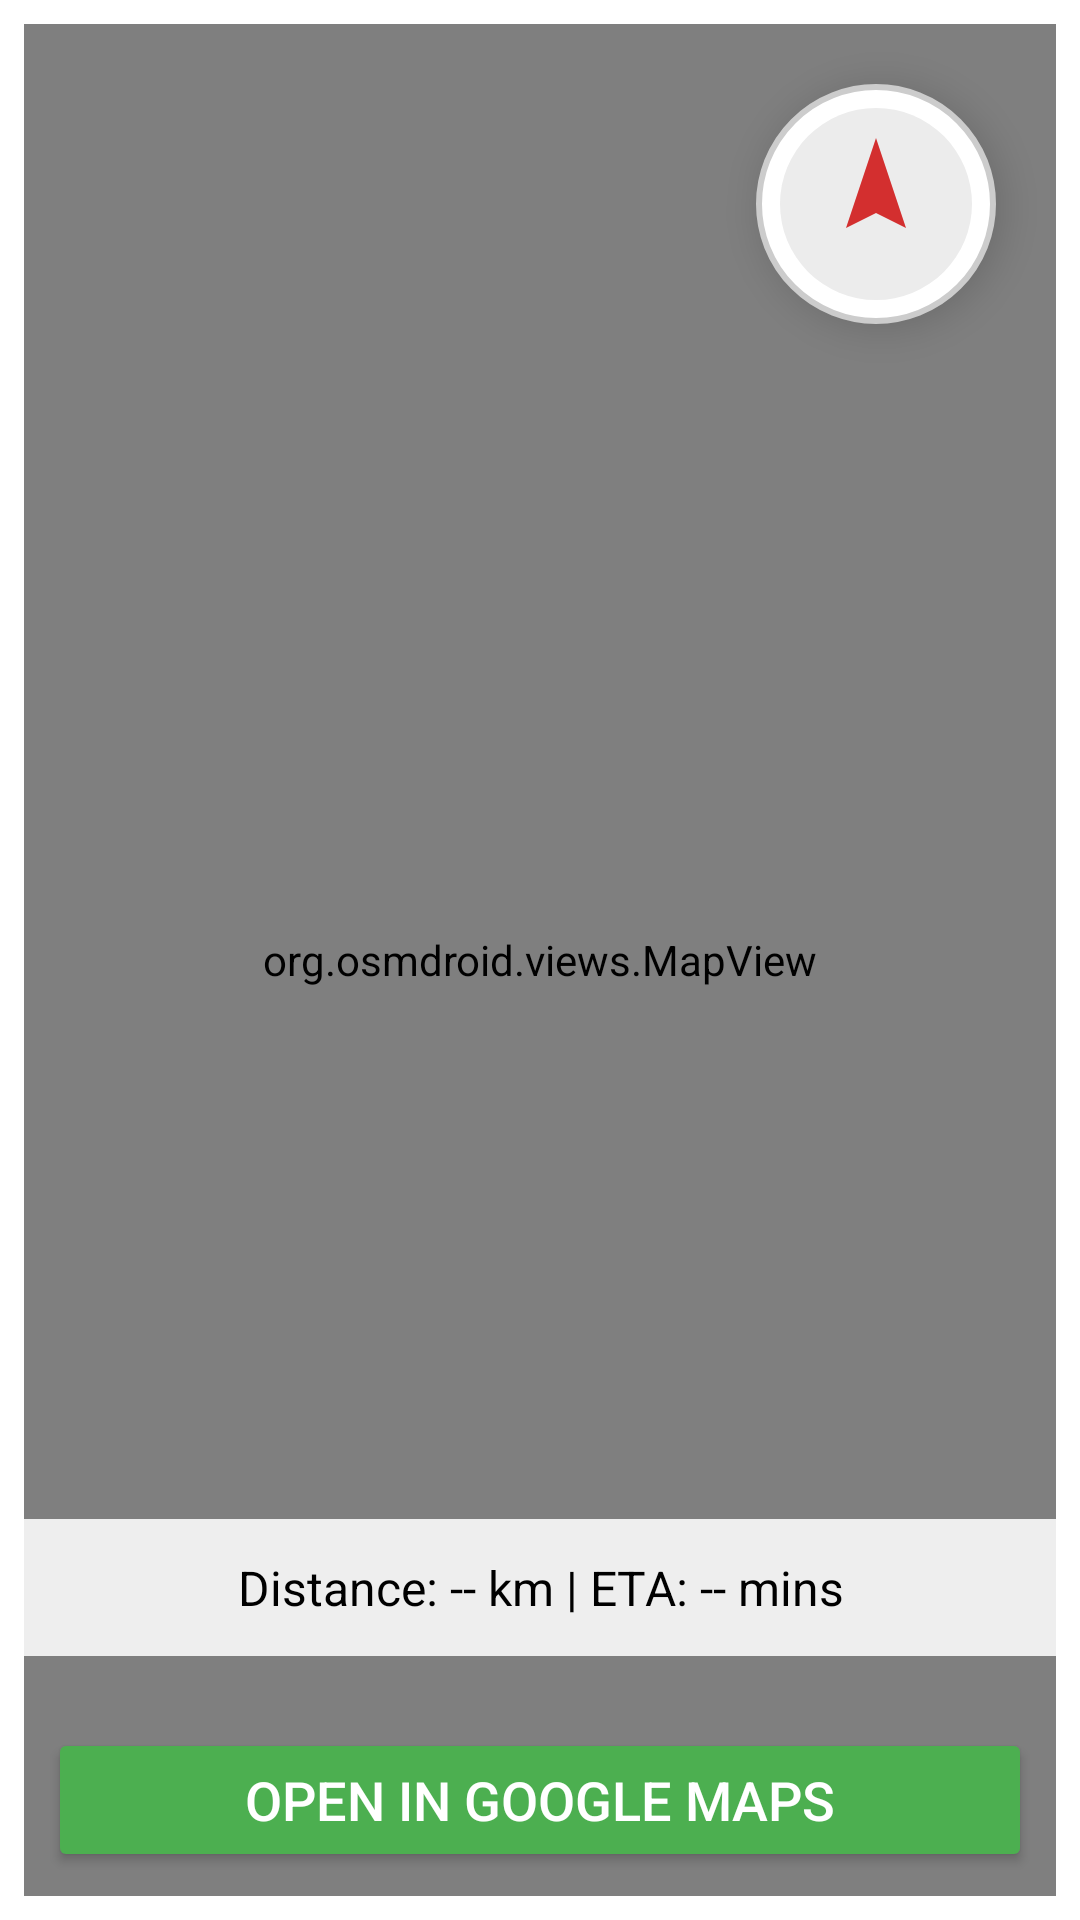

Named icons in this screenshot (1080*1920) and their bounding boxes, box=[x1, y1, x2, y2]:
Compass: box=[756, 84, 996, 324]
